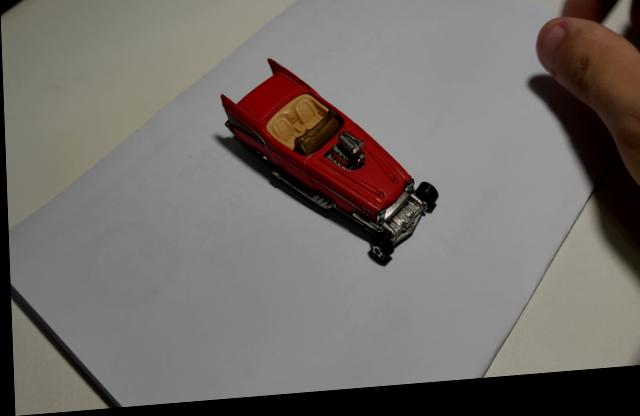03_V8: (215, 65, 438, 274)
